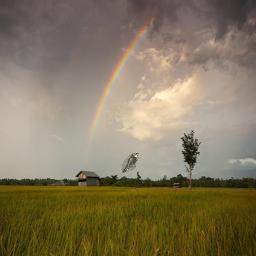Cuckoo: (122, 153, 139, 173)
